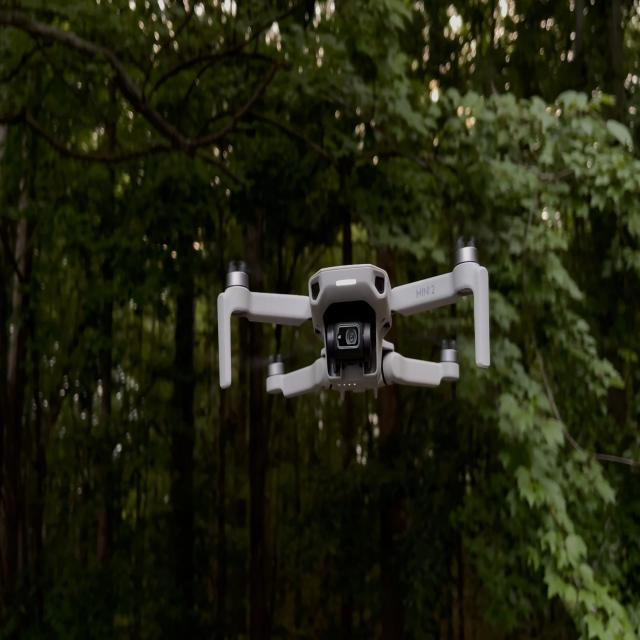Drone: (216, 235, 493, 415)
